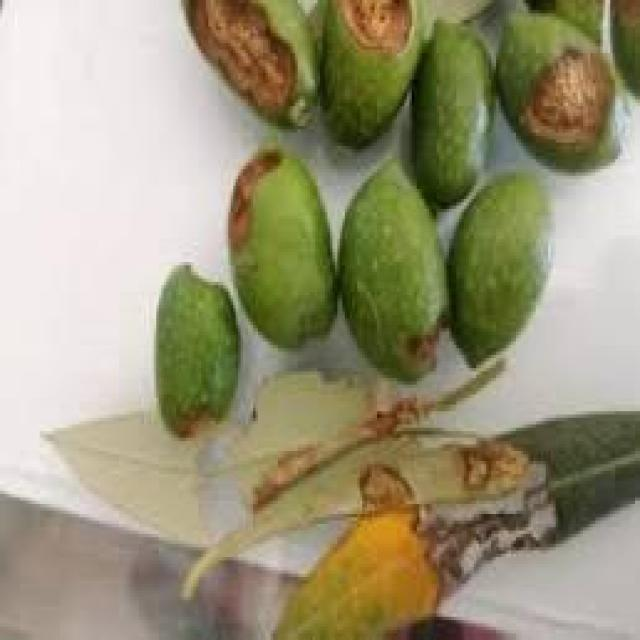Anthracnose: (340, 159, 444, 378), (228, 146, 335, 345), (496, 10, 615, 172), (320, 0, 427, 146), (184, 0, 315, 119)
